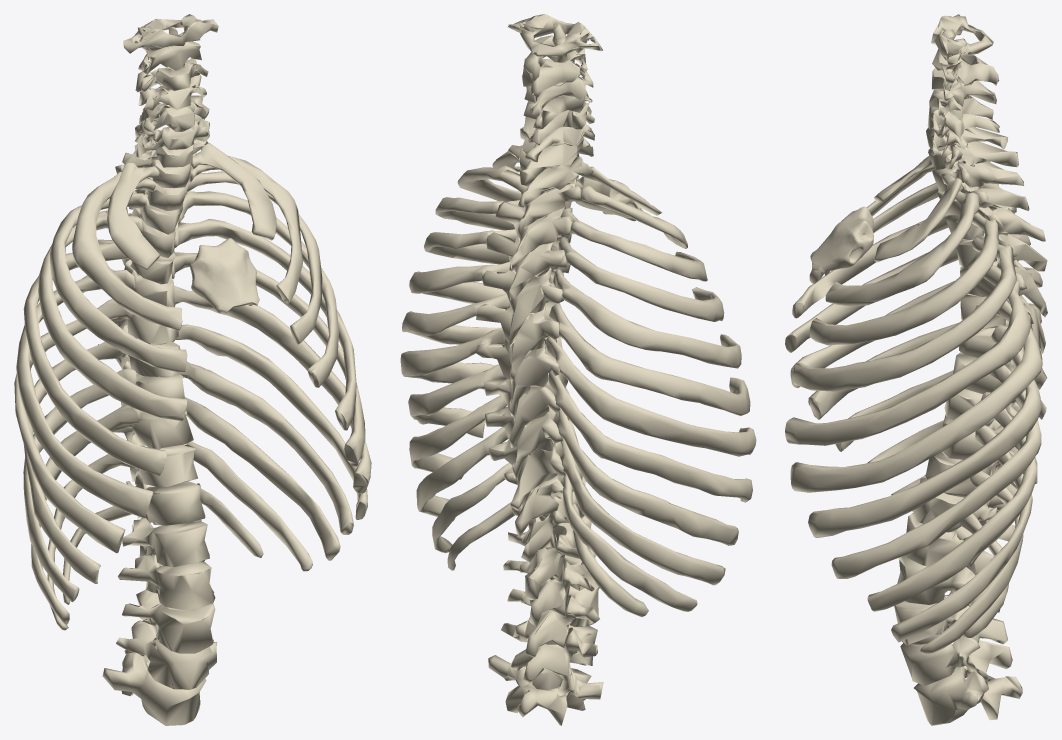
Rendered from trunk-balanced.glb.
3 renders of one model, left to right at view 1: azimuth 30°, elevation 25°; view 2: azimuth 150°, elevation 25°; view 3: azimuth 270°, elevation 25°, orthographic.
Visible parts, largest first — view 1: bp3d.FMA7574, bp3d.FMA9914, bp3d.FMA12215; view 2: bp3d.FMA7574, bp3d.FMA9914, bp3d.FMA12215; view 3: bp3d.FMA7574, bp3d.FMA9914, bp3d.FMA12215.
Boxes of the visible parts, x1,y1,x2,y2 form: bp3d.FMA7574: (14,143,371,630); bp3d.FMA9914: (98,14,218,725); bp3d.FMA12215: (190,238,259,313); bp3d.FMA7574: (400,151,756,616); bp3d.FMA9914: (475,14,603,725); bp3d.FMA12215: (575,177,642,221); bp3d.FMA7574: (785,144,1042,654); bp3d.FMA9914: (894,14,1047,725); bp3d.FMA12215: (810,206,873,275).
Bounding box in the file's own units: 0.2733 × 0.5772 × 0.198.
